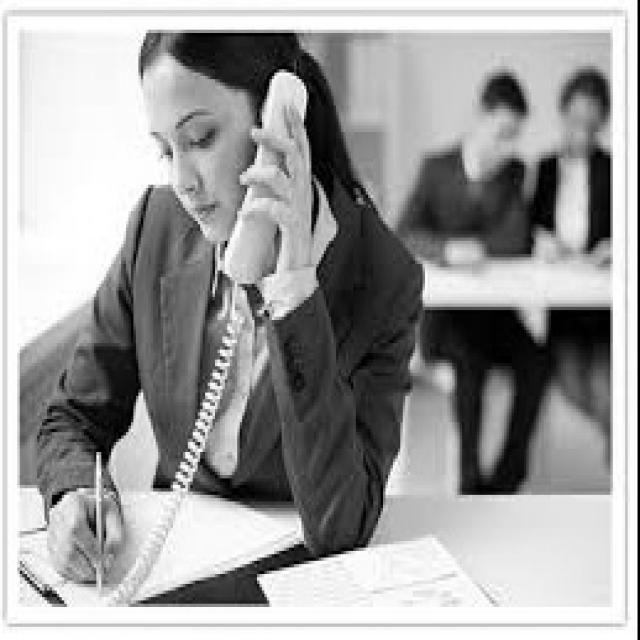phone: (208, 62, 358, 316)
